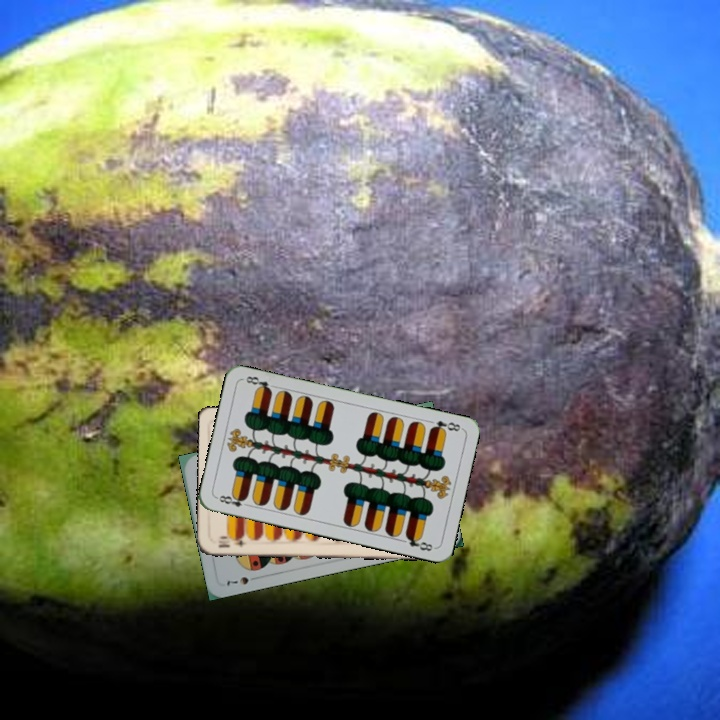E10: (214, 532, 249, 550)
E8: (213, 490, 253, 510), (426, 416, 464, 436)
S7: (223, 572, 261, 589)
